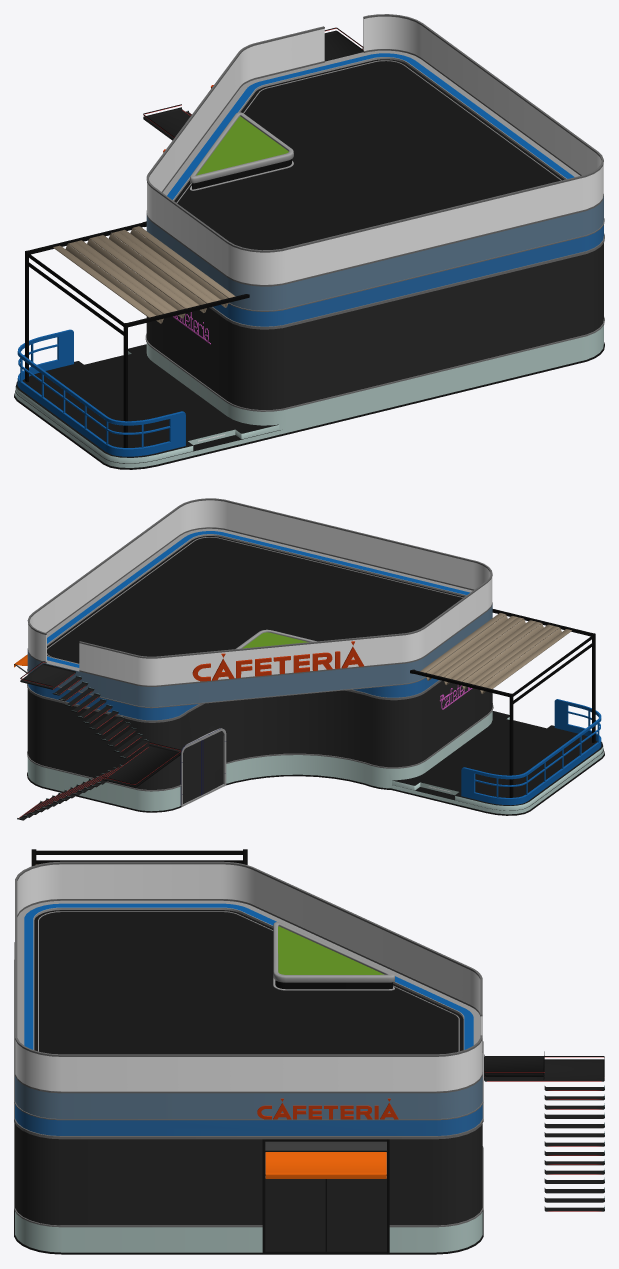
The model's file is Building_Cafe_001_L0.fbx.
3 renders of one model, top to bottom at view 1: azimuth 30°, elevation 25°; view 2: azimuth 150°, elevation 25°; view 3: azimuth 270°, elevation 25°, orthographic. The views are drawn at different scales.
Visible parts, largest first — view 1: Building_Cafe_001_L0; view 2: Building_Cafe_001_L0; view 3: Building_Cafe_001_L0.
Boxes of the visible parts, x1,y1,x2,y2 form: Building_Cafe_001_L0: [14, 14, 604, 469]; Building_Cafe_001_L0: [14, 498, 604, 820]; Building_Cafe_001_L0: [14, 849, 604, 1254].
Bounding box in the file's own units: 22.4 × 7.27 × 19.61.
